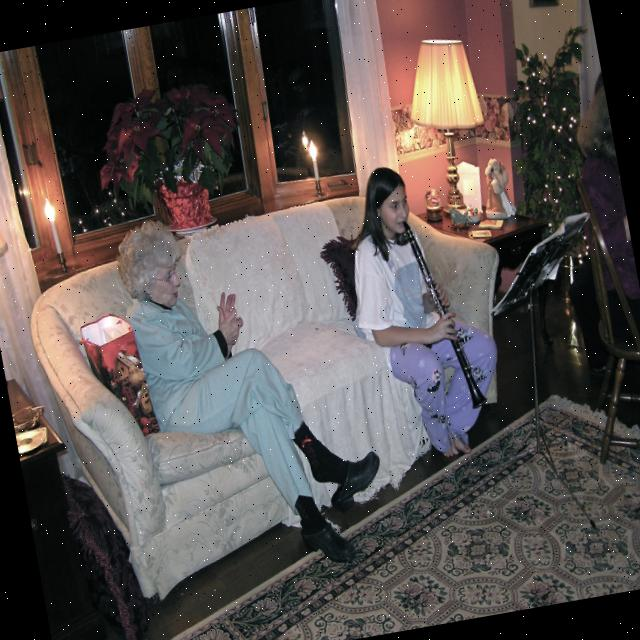clarinet: (400, 210, 490, 418)
